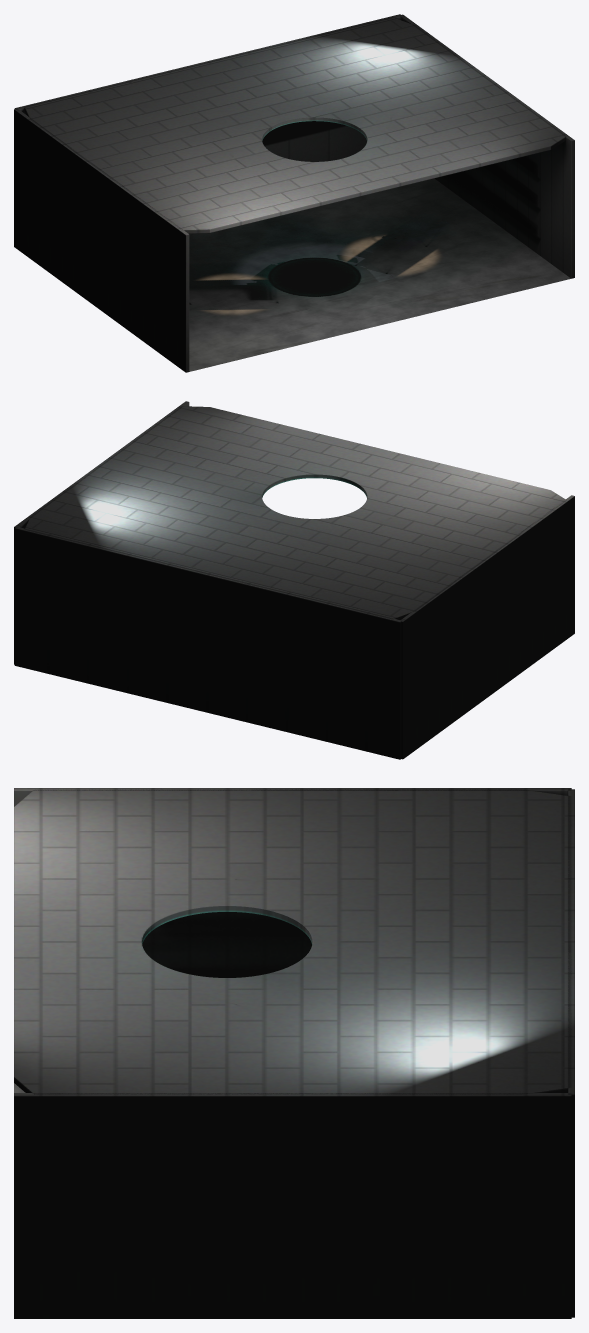
The model's file is room.glb.
3 renders of one model, top to bottom at view 1: azimuth 30°, elevation 25°; view 2: azimuth 150°, elevation 25°; view 3: azimuth 270°, elevation 25°, orthographic. The views are drawn at different scales.
Visible parts, largest first — view 1: baked_room; view 2: baked_room; view 3: baked_room.
Part boxes in pixels (<box>): baked_room: <box>14,14,574,372</box>; baked_room: <box>14,401,574,759</box>; baked_room: <box>14,788,574,1318</box>.
Size of the model in its own units: 44.4 by 15 by 34.2.
1 material, 1 textured.
